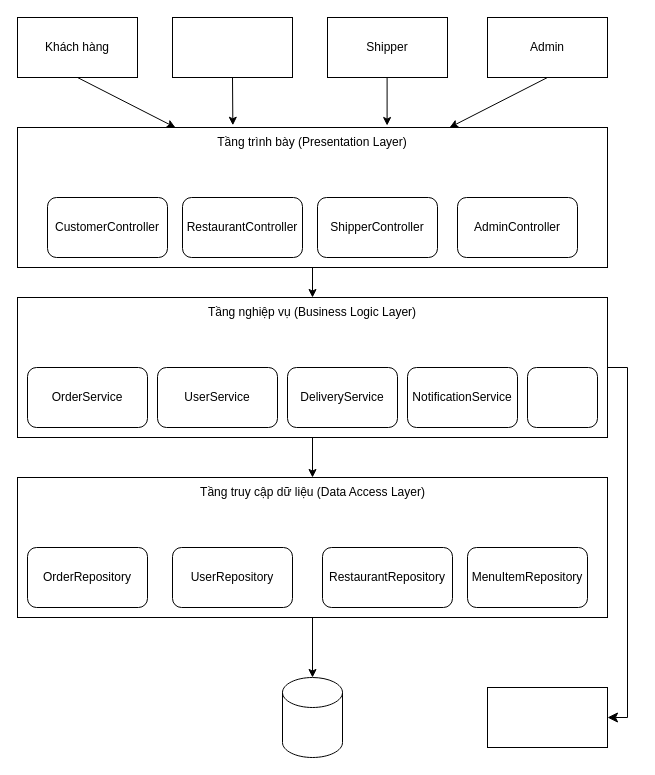
The diagram is 655 pixels wide and 775 high, and some of its shapes have lost their labels. The centre of each missing label's shape, as x and y in pixels:
MapAPI: (x=547, y=717)
MapService: (x=562, y=397)
MySQL: (x=312, y=717)
Nhà hàng: (x=232, y=47)
